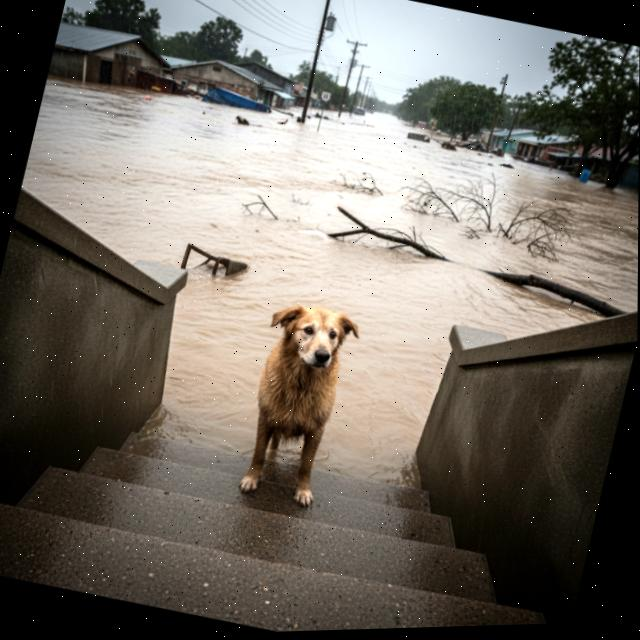dog: (219, 270, 389, 531)
